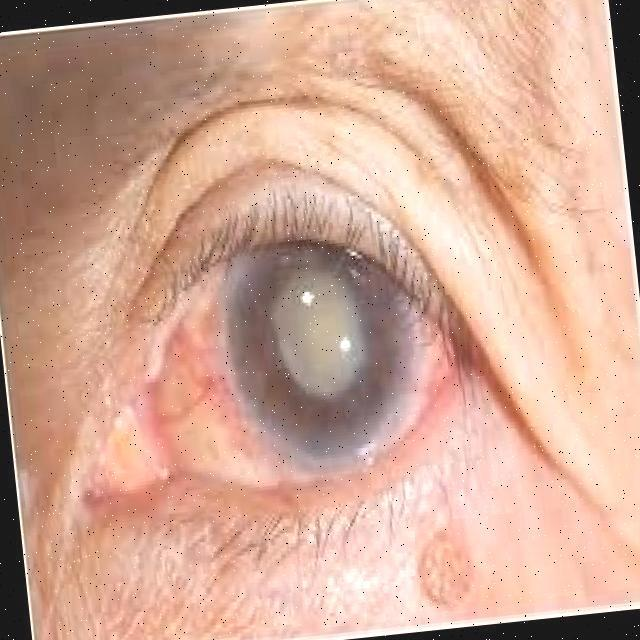Cataract: (215, 236, 398, 442)
